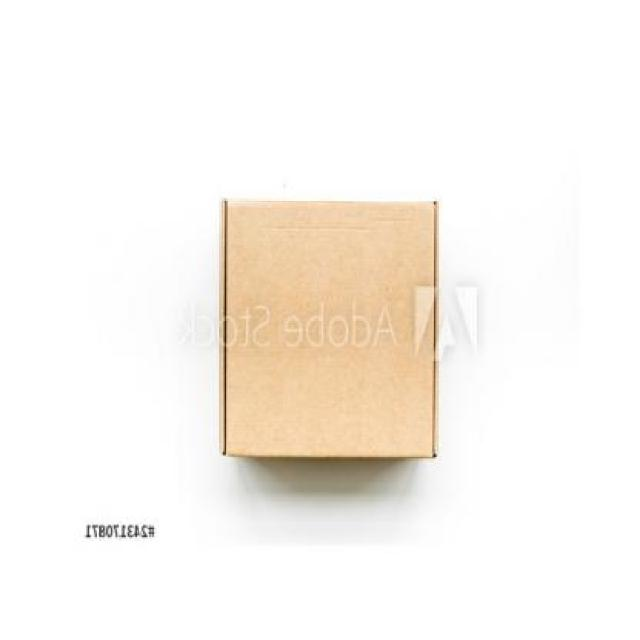cardboxes: (220, 198, 442, 462)
